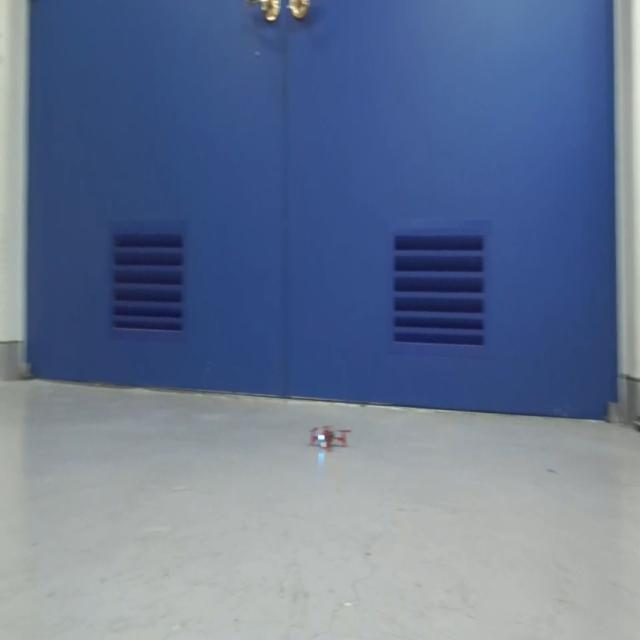crazyflie: (306, 420, 350, 453)
